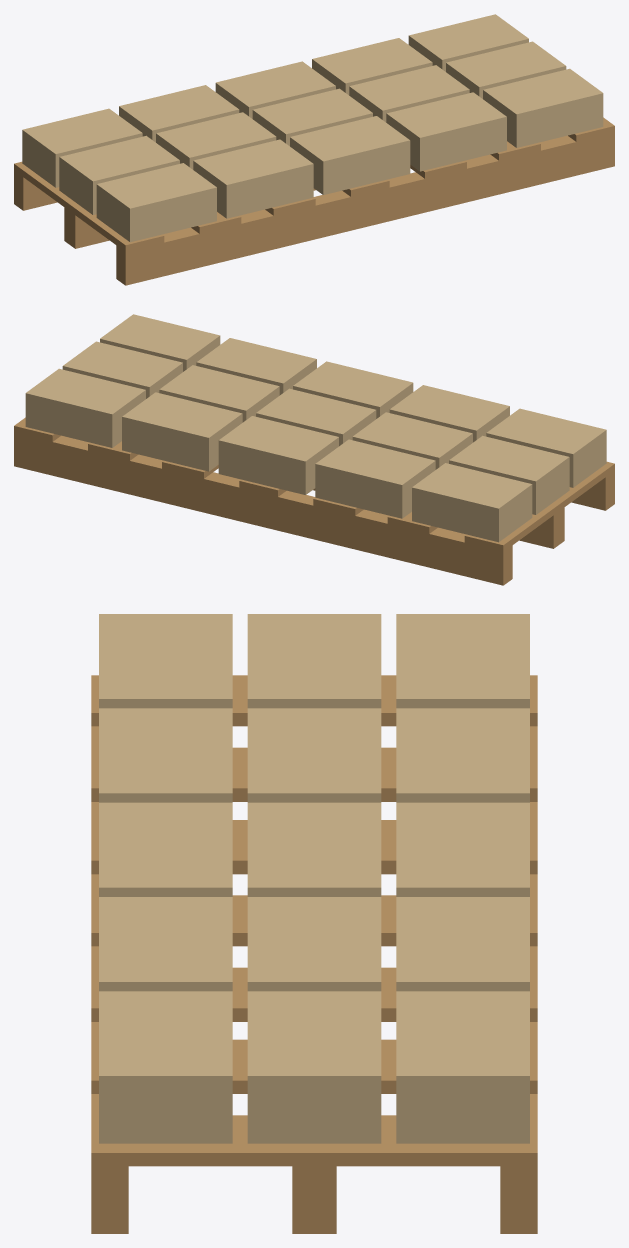
Rendered from adobe_pallet_done.glb.
3 views of the same model, one above another, from view 1: azimuth 30°, elevation 25°; view 2: azimuth 150°, elevation 25°; view 3: azimuth 270°, elevation 25° (orthographic). The views are drawn at different scales.
Parts seen in each view (by area): view 1: adobe_pallet_done:compound; view 2: adobe_pallet_done:compound; view 3: adobe_pallet_done:compound.
Part boxes in pixels (box(x1,y1,x2,y2)): adobe_pallet_done:compound: box(14, 14, 614, 285); adobe_pallet_done:compound: box(14, 314, 614, 585); adobe_pallet_done:compound: box(91, 614, 537, 1233).
Size of the model in its own units: 1.22 by 0.176 by 0.48.
